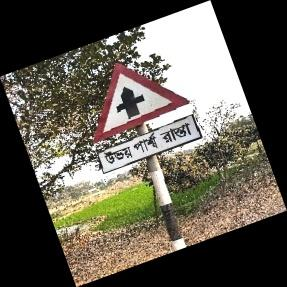Crossroad: (92, 62, 201, 180)
